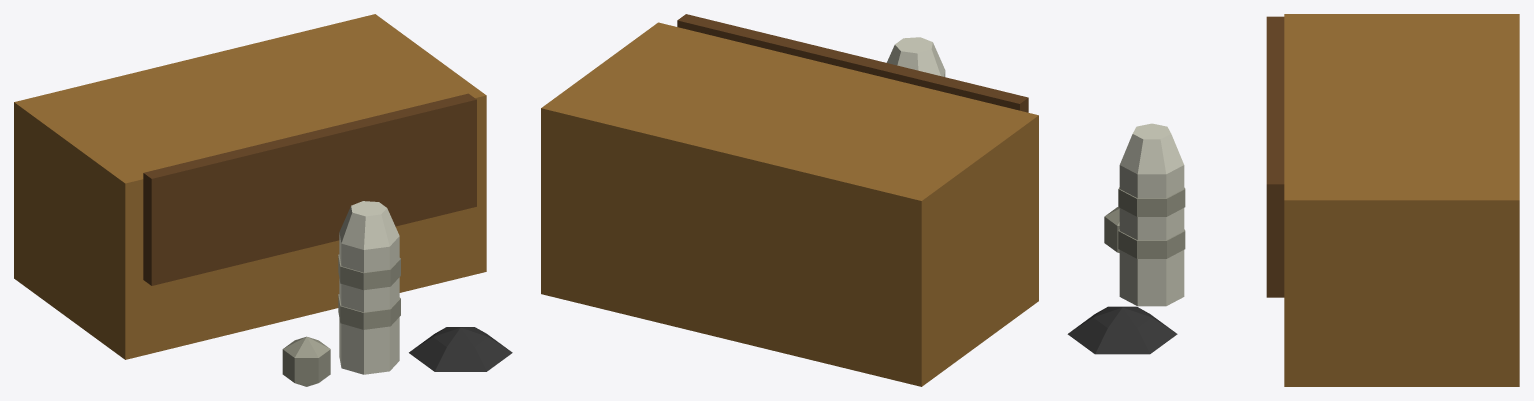
File: ce_ammo2_paper_blunder_b.obj
3 views of the same model, side by side, from view 1: azimuth 30°, elevation 25°; view 2: azimuth 150°, elevation 25°; view 3: azimuth 270°, elevation 25° (orthographic). The views are drawn at different scales.
Visible parts, largest first — view 1: ce_ammo2_paper_blunder_b_0, ce_ammo2_paper_blunder_b_1, ce_ammo2_paper_blunder_b_9, ce_ammo2_paper_blunder_b_2, ce_ammo2_paper_blunder_b_7, ce_ammo2_paper_blunder_b_8, ce_ammo2_paper_blunder_b_6, ce_ammo2_paper_blunder_b_4, ce_ammo2_paper_blunder_b_5, ce_ammo2_paper_blunder_b_3; view 2: ce_ammo2_paper_blunder_b_0, ce_ammo2_paper_blunder_b_1, ce_ammo2_paper_blunder_b_7; view 3: ce_ammo2_paper_blunder_b_0, ce_ammo2_paper_blunder_b_1, ce_ammo2_paper_blunder_b_9, ce_ammo2_paper_blunder_b_2, ce_ammo2_paper_blunder_b_7, ce_ammo2_paper_blunder_b_6, ce_ammo2_paper_blunder_b_4, ce_ammo2_paper_blunder_b_5, ce_ammo2_paper_blunder_b_3, ce_ammo2_paper_blunder_b_8.
Part boxes in pixels (x1,y1,x2,y2): ce_ammo2_paper_blunder_b_0: (14, 14, 486, 359); ce_ammo2_paper_blunder_b_1: (143, 93, 476, 285); ce_ammo2_paper_blunder_b_9: (409, 327, 512, 371); ce_ammo2_paper_blunder_b_2: (339, 317, 399, 374); ce_ammo2_paper_blunder_b_7: (339, 201, 399, 249); ce_ammo2_paper_blunder_b_8: (282, 336, 330, 386); ce_ammo2_paper_blunder_b_6: (339, 233, 399, 272); ce_ammo2_paper_blunder_b_4: (339, 277, 399, 312); ce_ammo2_paper_blunder_b_5: (338, 254, 400, 290); ce_ammo2_paper_blunder_b_3: (338, 294, 400, 329); ce_ammo2_paper_blunder_b_0: (541, 22, 1038, 386); ce_ammo2_paper_blunder_b_1: (677, 14, 1028, 112); ce_ammo2_paper_blunder_b_7: (886, 37, 944, 76); ce_ammo2_paper_blunder_b_0: (1284, 14, 1519, 386); ce_ammo2_paper_blunder_b_1: (1266, 16, 1284, 297); ce_ammo2_paper_blunder_b_9: (1067, 306, 1177, 354); ce_ammo2_paper_blunder_b_2: (1119, 250, 1184, 306); ce_ammo2_paper_blunder_b_7: (1120, 123, 1183, 174); ce_ammo2_paper_blunder_b_6: (1119, 165, 1184, 198); ce_ammo2_paper_blunder_b_4: (1119, 208, 1184, 240); ce_ammo2_paper_blunder_b_5: (1118, 187, 1185, 216); ce_ammo2_paper_blunder_b_3: (1118, 229, 1185, 258); ce_ammo2_paper_blunder_b_8: (1104, 207, 1119, 252).
Bounding box in the file's own units: 0.6 × 0.29 × 0.615.
